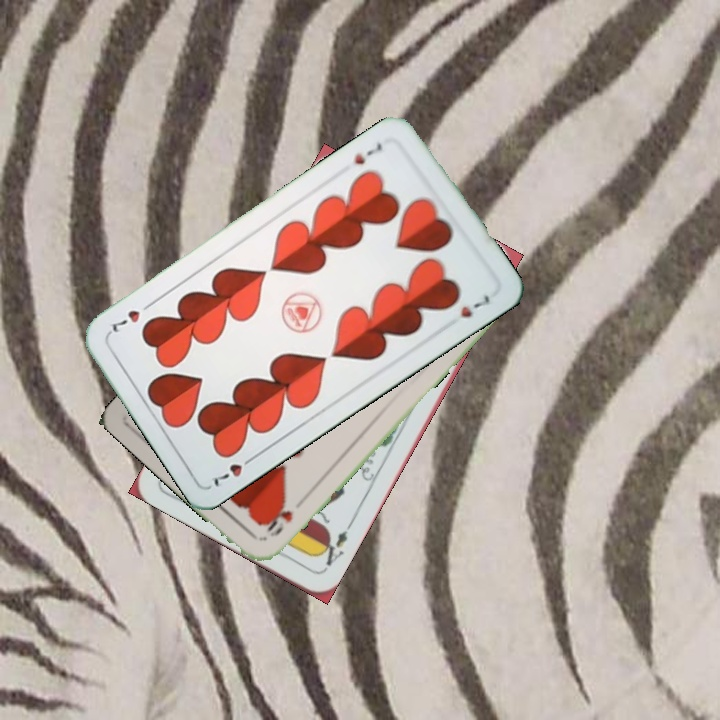EA: (313, 526, 350, 573)
H7: (205, 451, 260, 489), (350, 139, 385, 168)
HO: (260, 497, 295, 540)
